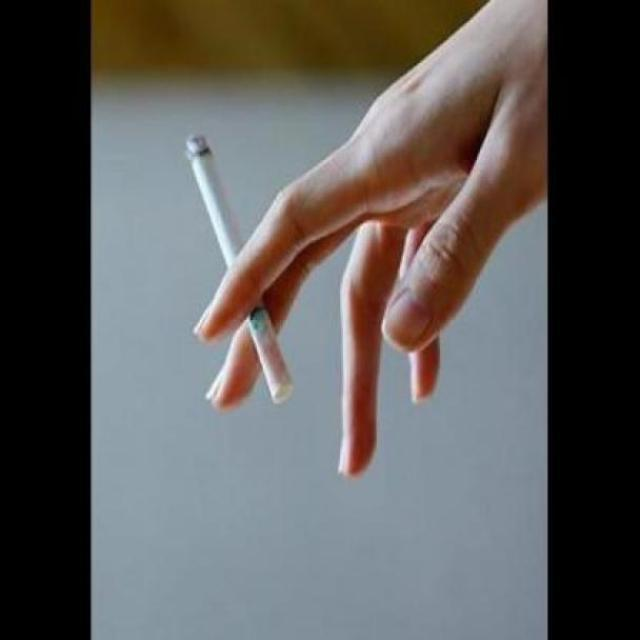rokok: (182, 132, 298, 408)
